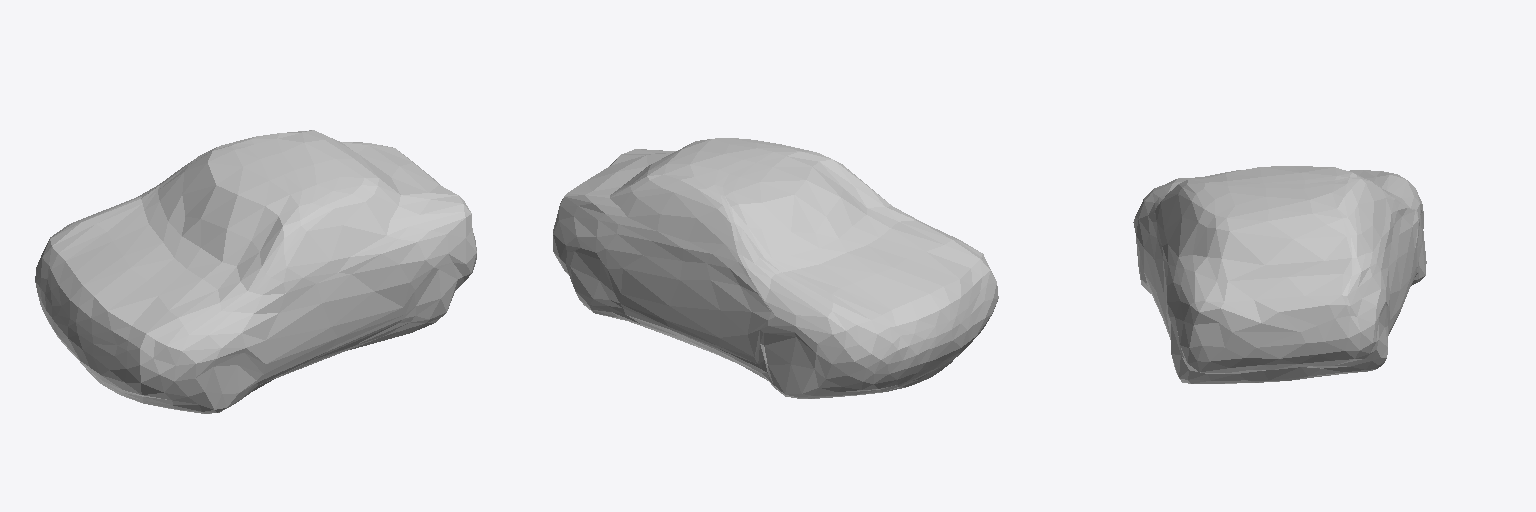
The model's file is video3_277.obj.
The picture shows the model from 3 angles: view 1: azimuth 30°, elevation 25°; view 2: azimuth 150°, elevation 25°; view 3: azimuth 270°, elevation 25°; orthographic projection.
Bounding box in the file's own units: 1 × 0.446 × 0.6814.